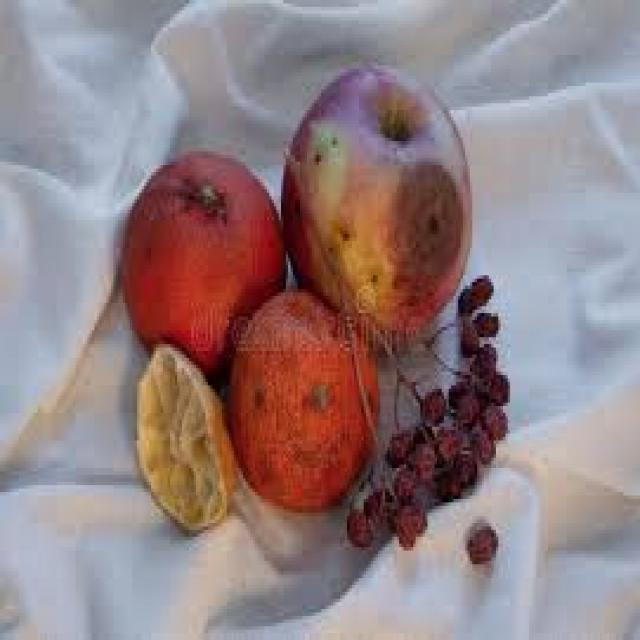organic waste: (279, 62, 470, 341), (118, 148, 281, 385), (224, 286, 378, 512), (132, 334, 236, 530), (446, 372, 482, 419), (456, 272, 494, 310), (432, 416, 470, 454), (465, 519, 494, 561), (468, 423, 496, 465), (465, 341, 496, 375), (359, 485, 392, 516), (387, 430, 416, 465), (390, 461, 416, 496), (480, 399, 506, 434), (390, 512, 413, 550), (449, 447, 472, 485), (406, 441, 432, 472), (345, 506, 368, 540), (420, 389, 444, 420), (435, 468, 458, 499), (399, 499, 425, 526), (458, 316, 477, 348), (475, 310, 498, 334), (484, 375, 508, 396), (411, 420, 430, 440)
